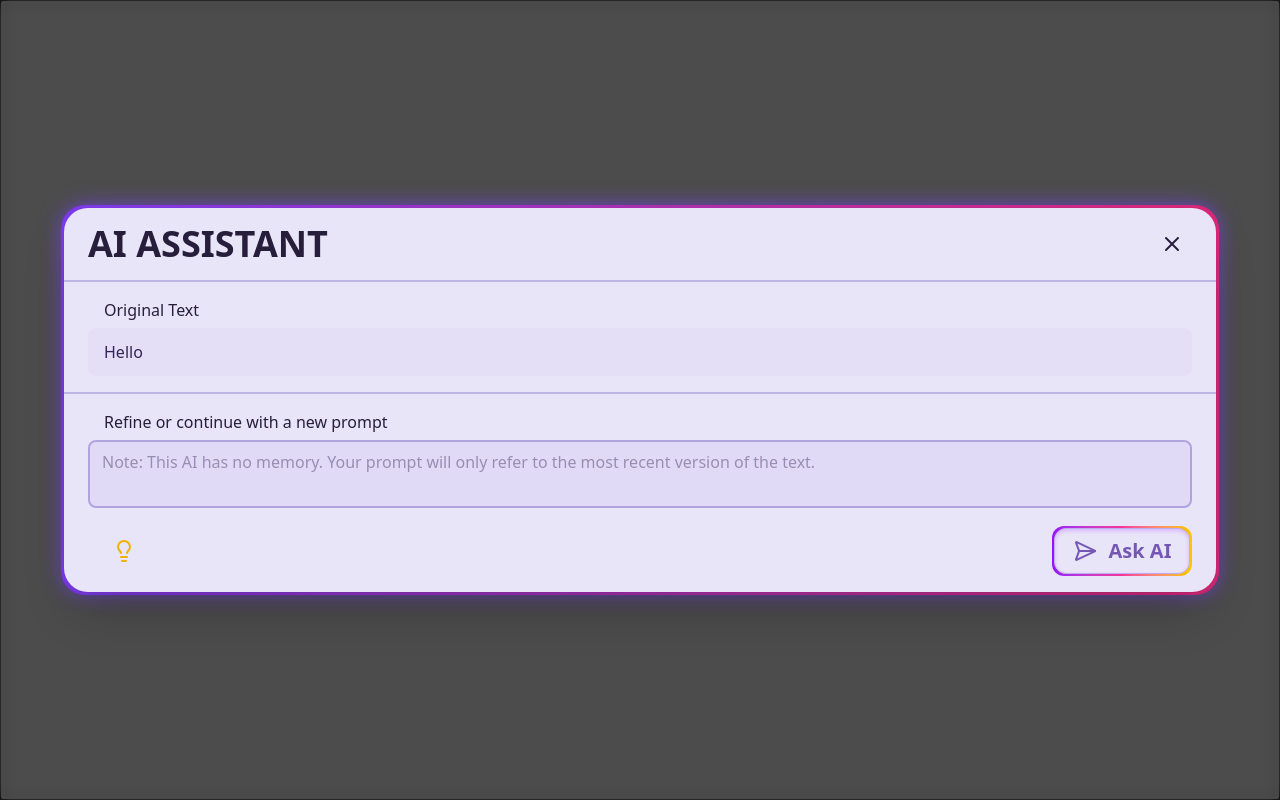
Test: AIComponent Unit Tests › fetches AI response with first prompt
This screenshot has width=1280, height=800.
Type "First Prompt" into the text box with placeholder "Note: This AI has no memory".
click(640, 474); type("First Prompt")  # box [88,440,1192,508]
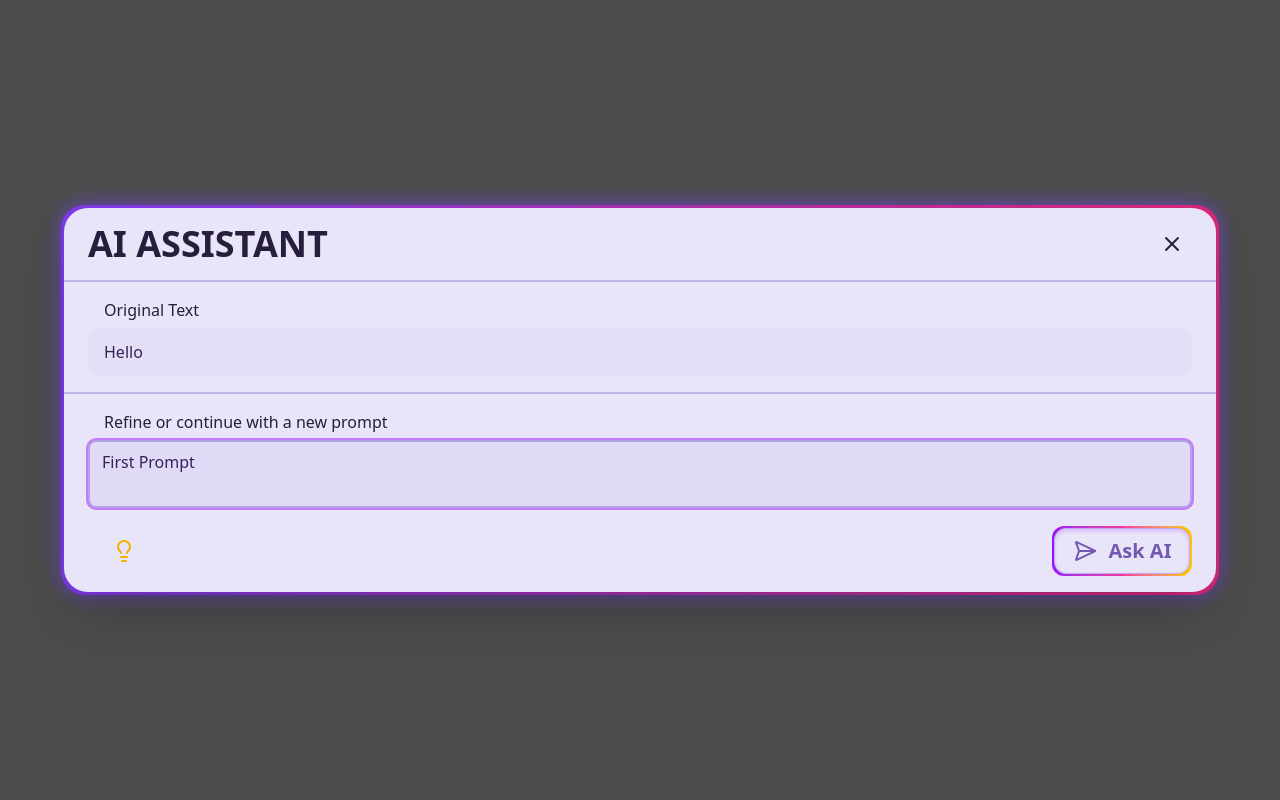
Click the button titled "Ask AI".
click(1122, 551)  # box [1052,526,1192,576]
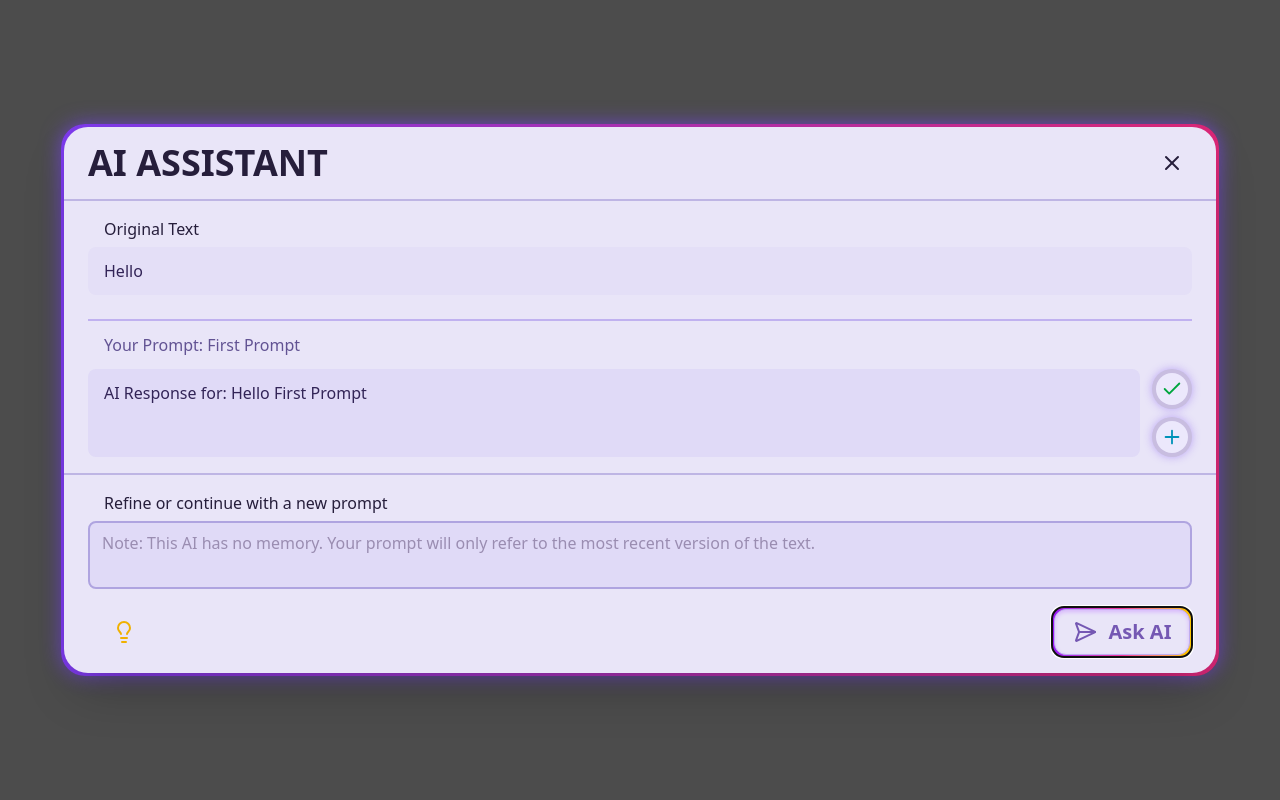
Expected: the text "AI Response for: Hello First Prompt" is shown, [104,382,367,404]
